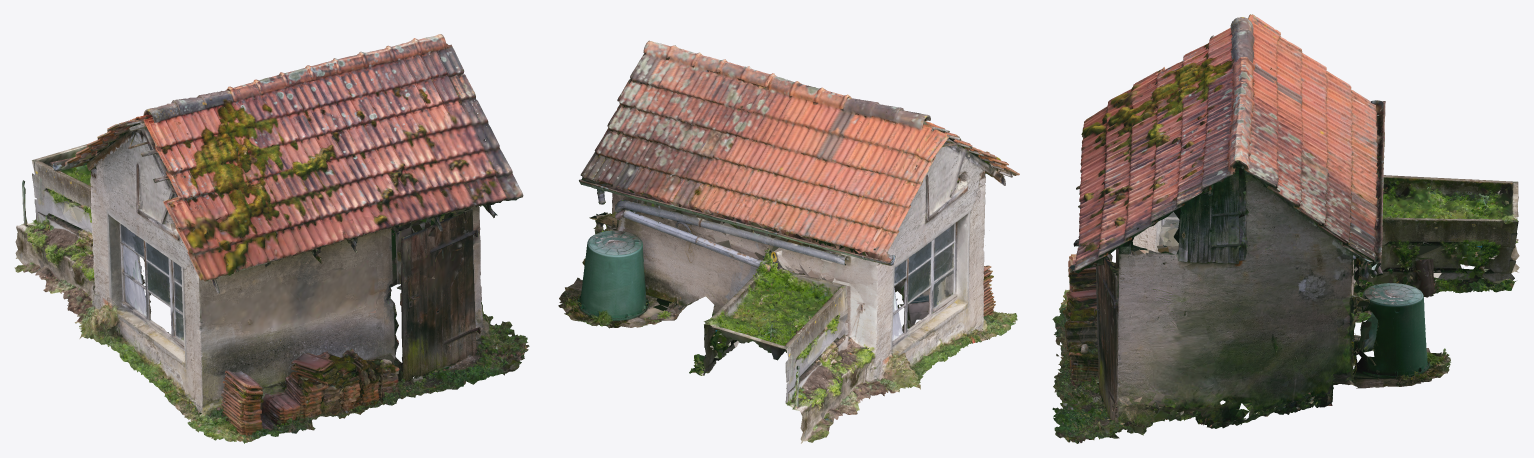
File: old_countryside_house2.glb
The picture shows the model from 3 angles, left to right: view 1: azimuth 30°, elevation 25°; view 2: azimuth 150°, elevation 25°; view 3: azimuth 270°, elevation 25°; orthographic projection. The views are drawn at different scales.
Parts seen in each view (by area): view 1: Stereo textured mesh; view 2: Stereo textured mesh; view 3: Stereo textured mesh.
Part boxes in pixels (x1=…): Stereo textured mesh: x1=14, y1=34, x2=529, y2=443; Stereo textured mesh: x1=558, y1=40, x2=1019, y2=443; Stereo textured mesh: x1=1052, y1=14, x2=1519, y2=443.
Bounding box in the file's own units: 4.38 × 3.61 × 4.9.
3 materials, 3 textured.
